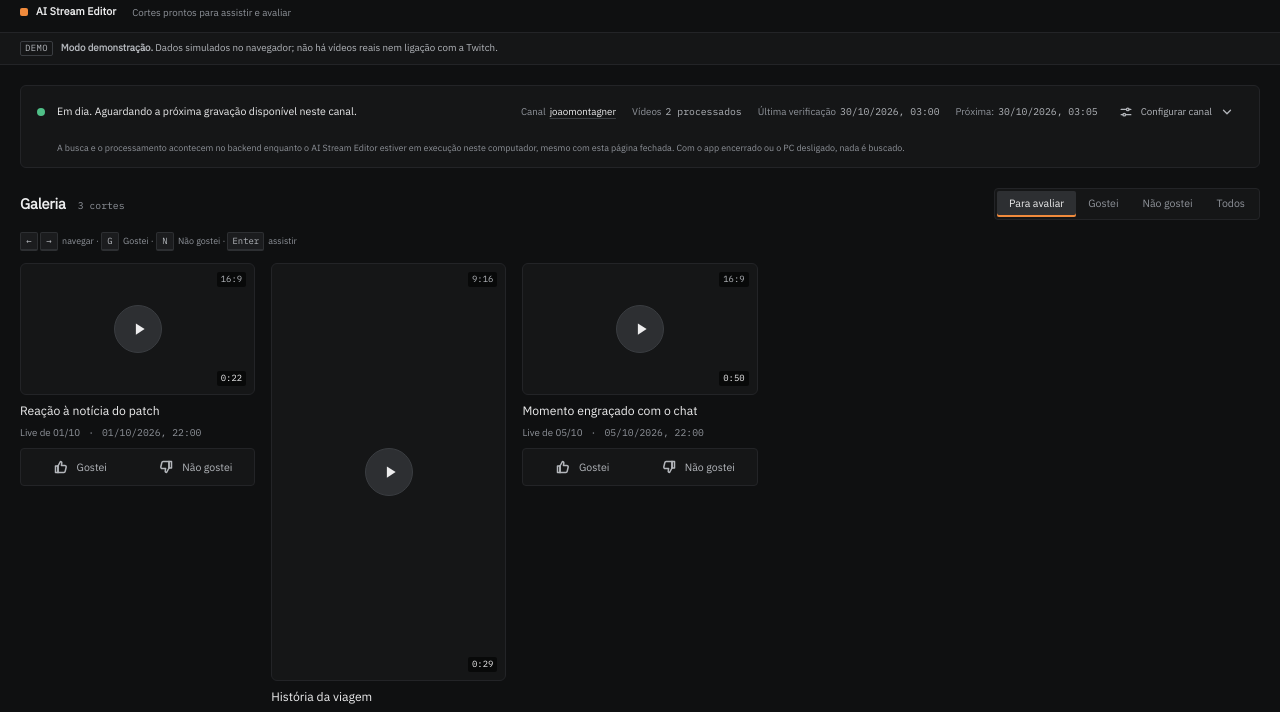
Test: Galeria: cortes e avaliação › cada card segue o formato do corte e mostra o aviso de enquadramento
Click the radio button labelled "Todos" at (1231, 204), box [1205, 191, 1257, 217]
(page scrolled)
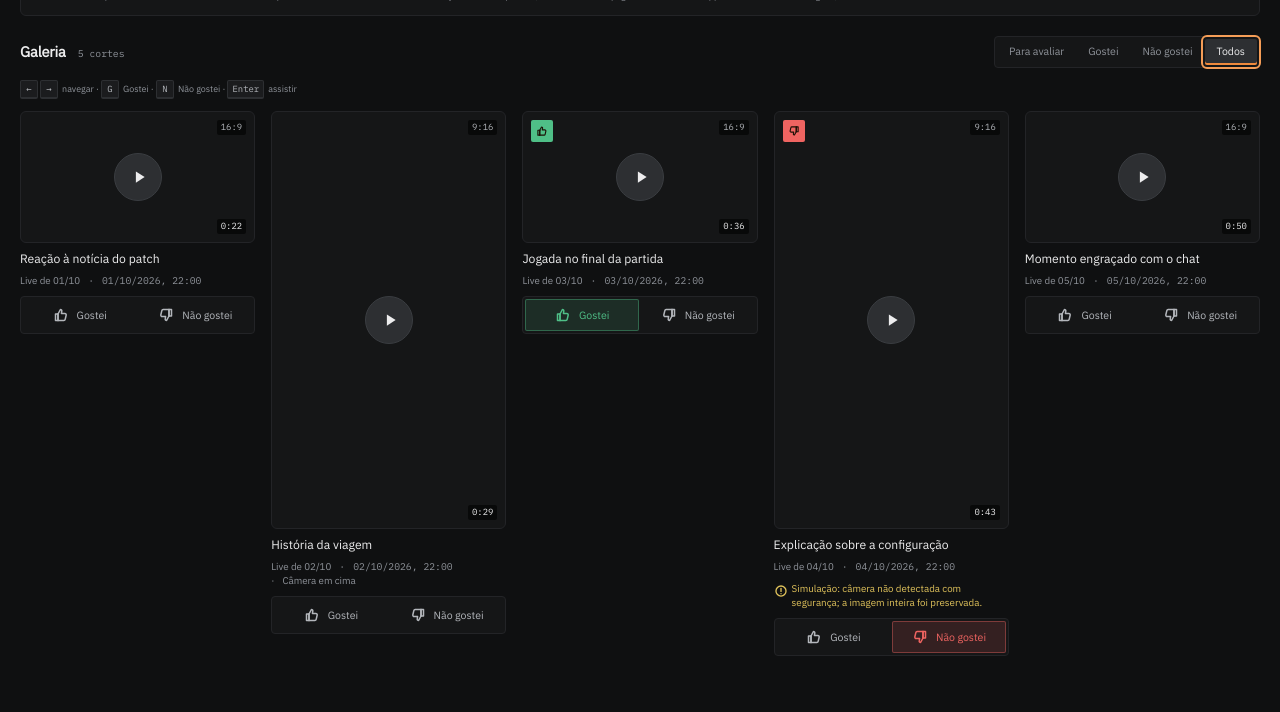
Expected: the 1st text "16:9" is shown, [217, 120, 246, 135]
Expected: the text "câmera não detectada com segurança" is shown, [792, 582, 982, 609]
